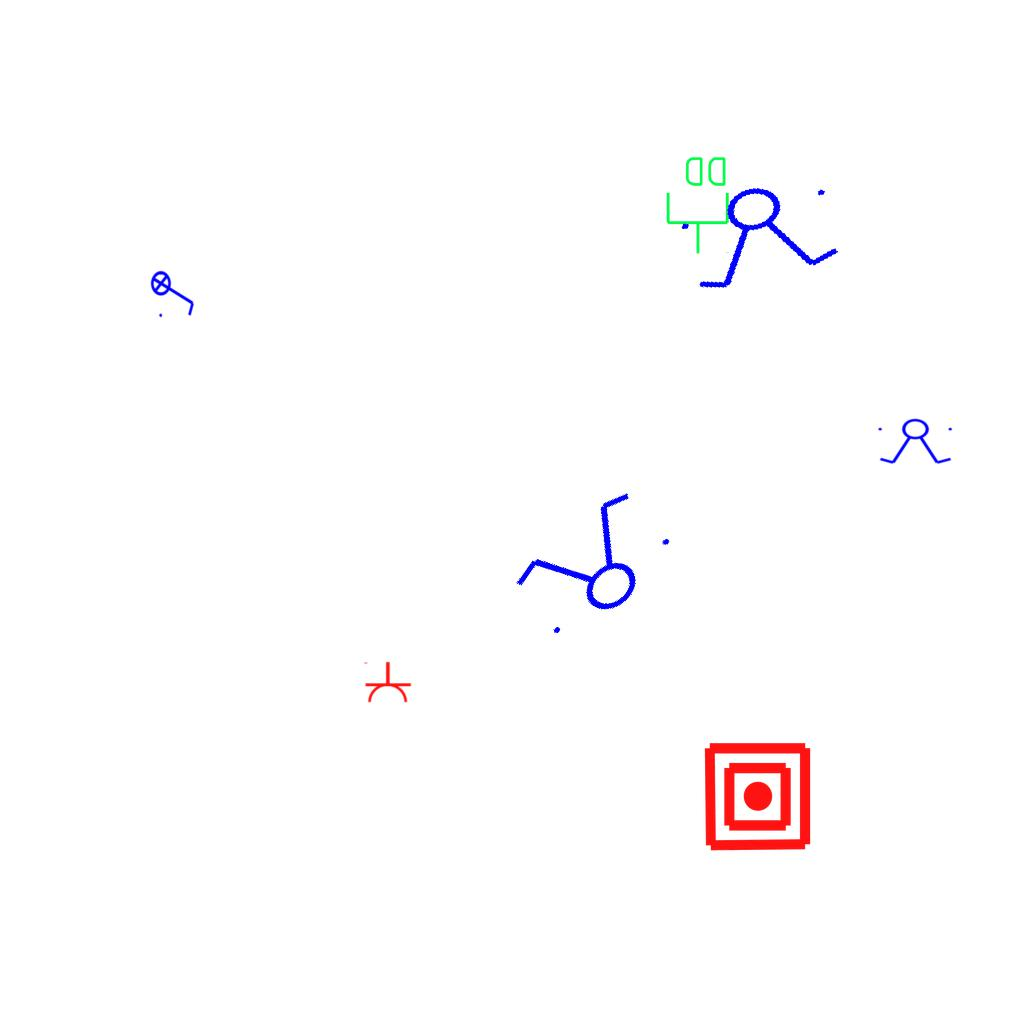Ausschalter_beleuchtet: (150, 264, 198, 320)
Datenanschluss_zweifach: (664, 153, 733, 256)
NAM-Nichtautomatischer_Melder: (701, 740, 814, 853)
Schukosteckdose_einfach: (362, 661, 412, 704)
Serienschalter: (498, 476, 690, 658), (667, 167, 855, 301), (874, 418, 958, 466)
